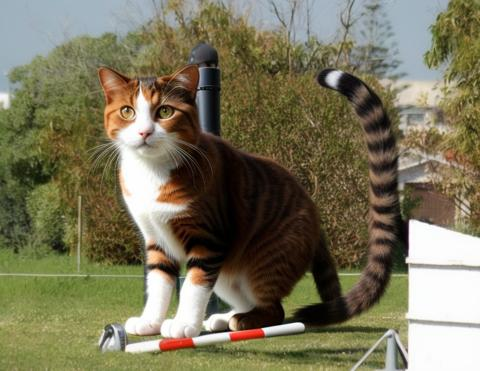cat: (87, 65, 398, 338)
person: (180, 44, 290, 196)
